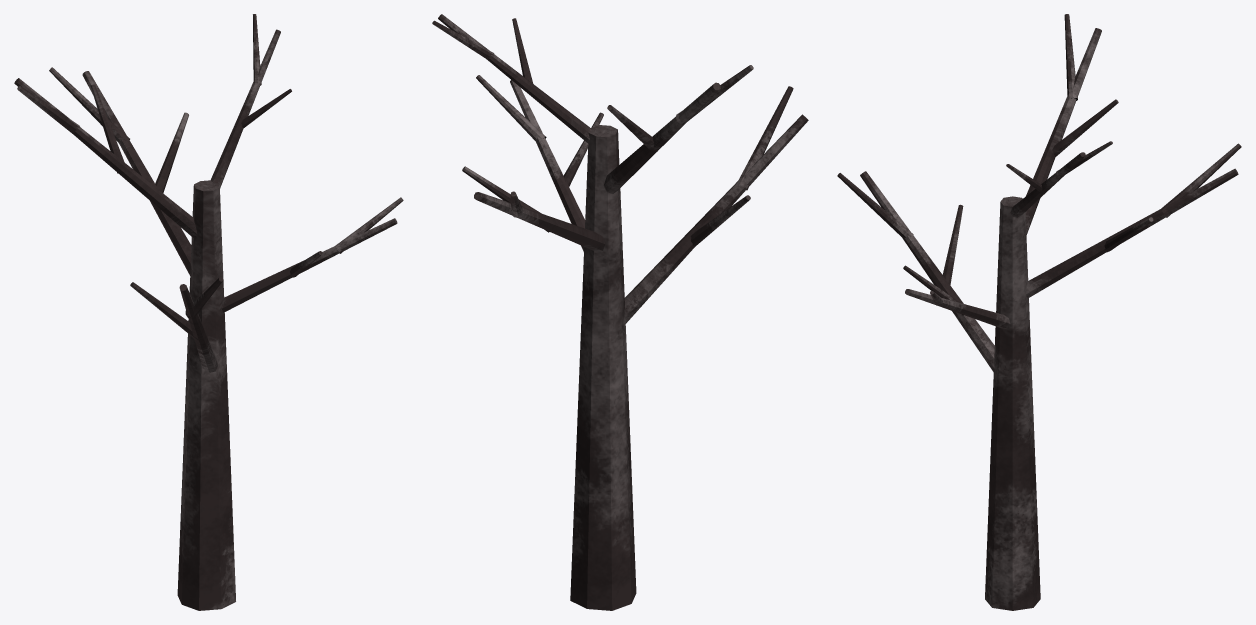
Rendered from dead_tree_002.obj.
3 renders of one model, left to right at view 1: azimuth 30°, elevation 25°; view 2: azimuth 150°, elevation 25°; view 3: azimuth 270°, elevation 25°, orthographic. The views are drawn at different scales.
Parts seen in each view (by area): view 1: dead_tree_002_GEO; view 2: dead_tree_002_GEO; view 3: dead_tree_002_GEO.
Part boxes in pixels (x1,y1,x2,y2): dead_tree_002_GEO: (14,14,403,610); dead_tree_002_GEO: (432,14,808,610); dead_tree_002_GEO: (837,14,1241,610).
Bounding box in the file's own units: 6.28 × 10.1 × 7.24.
